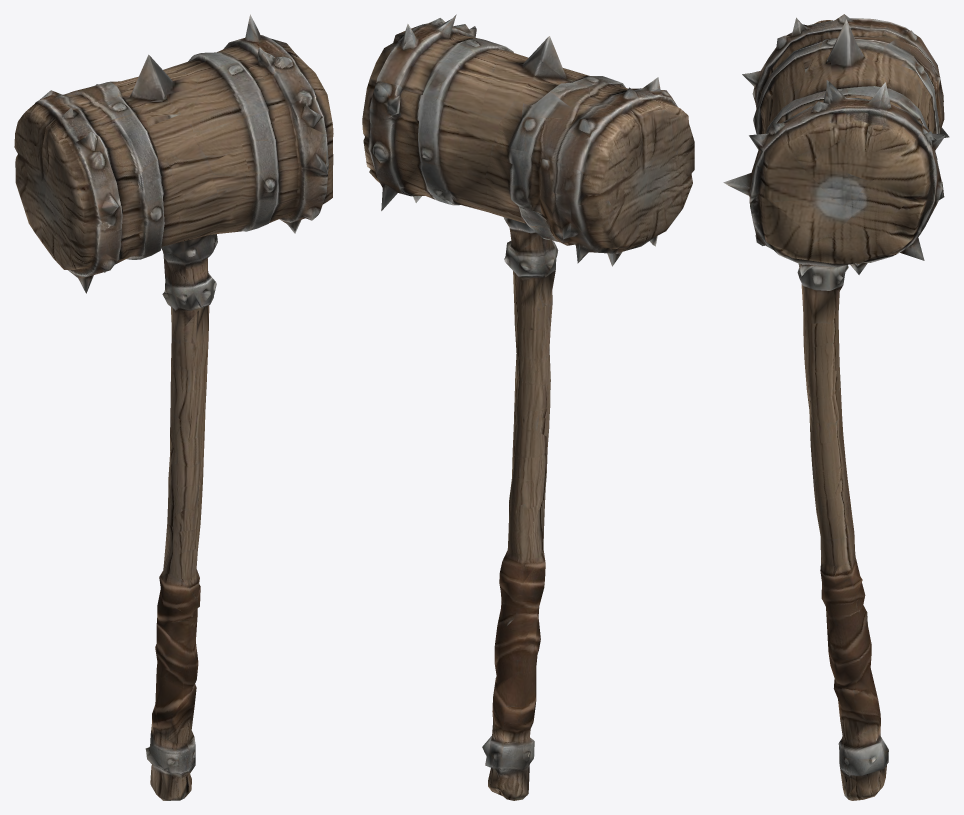
Rendered from 502_w_maul.glb.
3 views of the same model, side by side, from view 1: azimuth 30°, elevation 25°; view 2: azimuth 150°, elevation 25°; view 3: azimuth 270°, elevation 25° (orthographic).
Visible parts, largest first — view 1: Model; view 2: Model; view 3: Model.
Part boxes in pixels (x1,y1,x2,y2): Model: [14, 14, 333, 800]; Model: [362, 14, 694, 800]; Model: [723, 14, 949, 800].
Bounding box in the file's own units: 0.3571 × 1 × 0.2686.
1 material, 1 textured.
